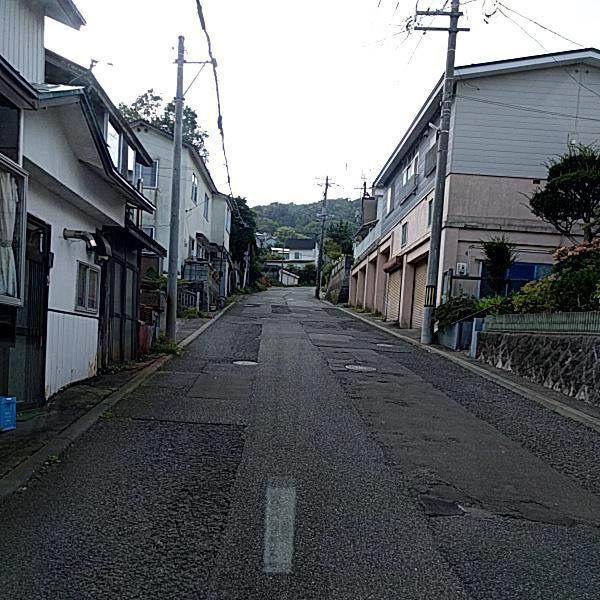D50: (226, 355, 257, 368), (344, 358, 373, 371)
